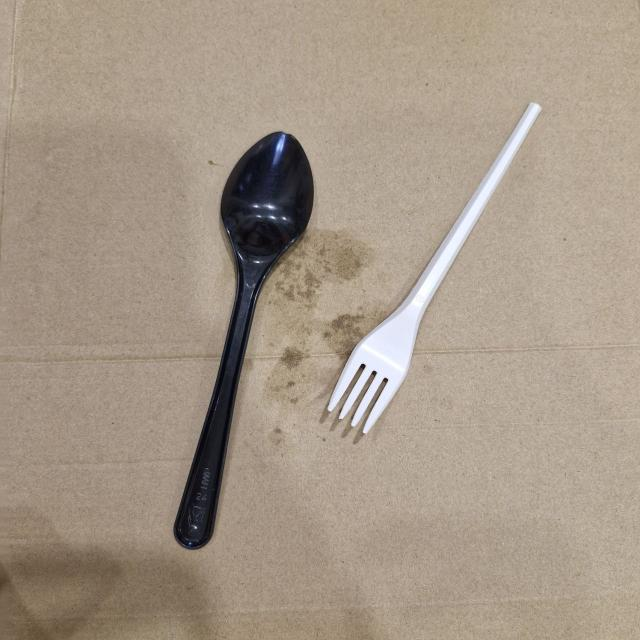plastic: (320, 69, 576, 459), (162, 101, 324, 553)
